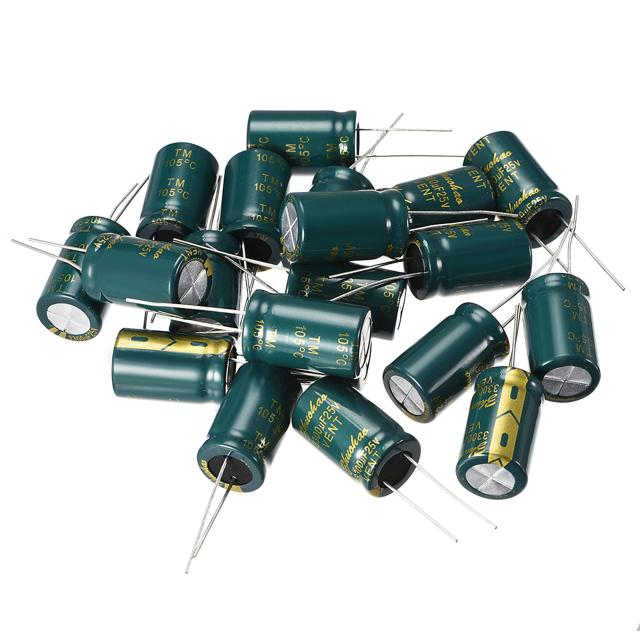Capacitor: (292, 376, 458, 541), (185, 362, 301, 572), (24, 176, 149, 341), (382, 302, 510, 422), (464, 131, 574, 248), (456, 366, 544, 499), (241, 290, 372, 379), (404, 220, 531, 300), (522, 274, 600, 402), (81, 232, 212, 305), (280, 189, 409, 262), (111, 329, 236, 403), (136, 142, 219, 242), (220, 149, 291, 264), (246, 110, 356, 168), (394, 166, 496, 211), (285, 262, 401, 300), (339, 279, 406, 339), (205, 251, 241, 309), (186, 230, 240, 253), (410, 215, 482, 227), (191, 311, 236, 328), (170, 321, 198, 332)
